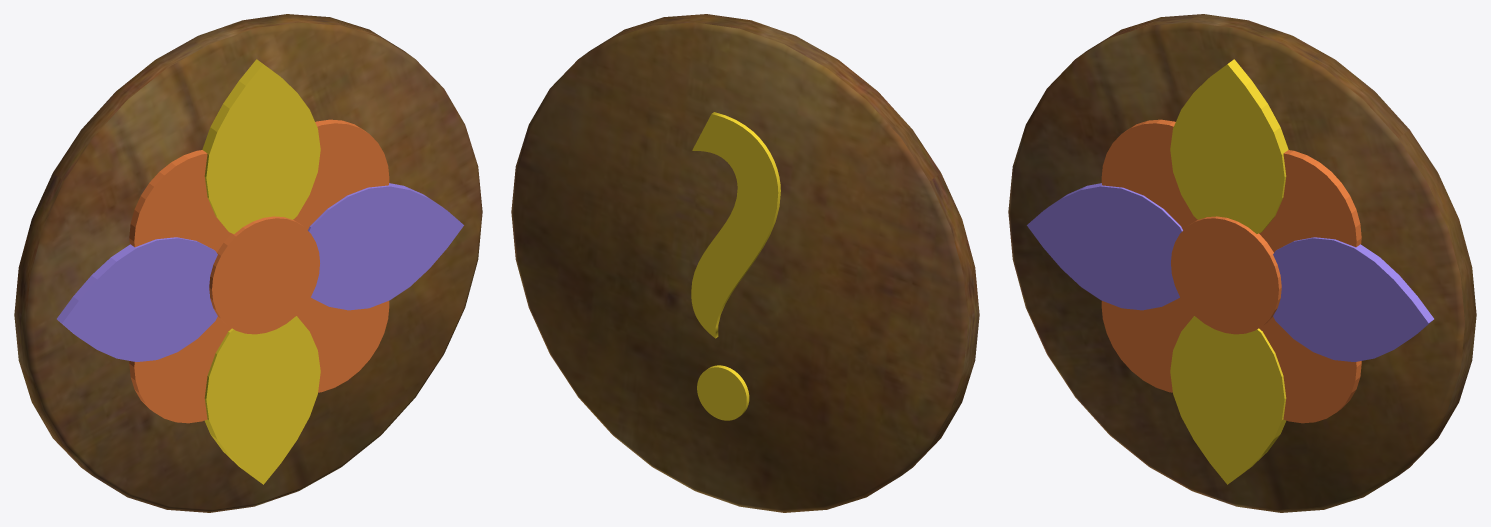
File: schild.gltf
The picture shows the model from 3 angles, left to right: view 1: azimuth 30°, elevation 25°; view 2: azimuth 150°, elevation 25°; view 3: azimuth 330°, elevation 25°; orthographic projection.
Parts seen in each view (by area): view 1: Shield, Blue_Petals, Yellow_Petals, Rings, Center; view 2: Shield, Text; view 3: Shield, Blue_Petals, Yellow_Petals, Rings, Center.
Boxes of the visible parts, left/top/right/bottom form: Shield: left=14, top=14, right=482, bottom=512; Blue_Petals: left=202, top=59, right=320, bottom=484; Yellow_Petals: left=57, top=183, right=463, bottom=361; Rings: left=129, top=119, right=389, bottom=423; Center: left=209, top=216, right=319, bottom=334; Shield: left=511, top=14, right=979, bottom=512; Text: left=691, top=112, right=780, bottom=420; Shield: left=1008, top=14, right=1476, bottom=512; Blue_Petals: left=1170, top=59, right=1288, bottom=484; Yellow_Petals: left=1027, top=183, right=1433, bottom=361; Rings: left=1101, top=119, right=1361, bottom=423; Center: left=1171, top=216, right=1281, bottom=334.
Bounding box in the file's own units: 2.29 × 2.29 × 0.2458.
4 materials, 1 textured.
